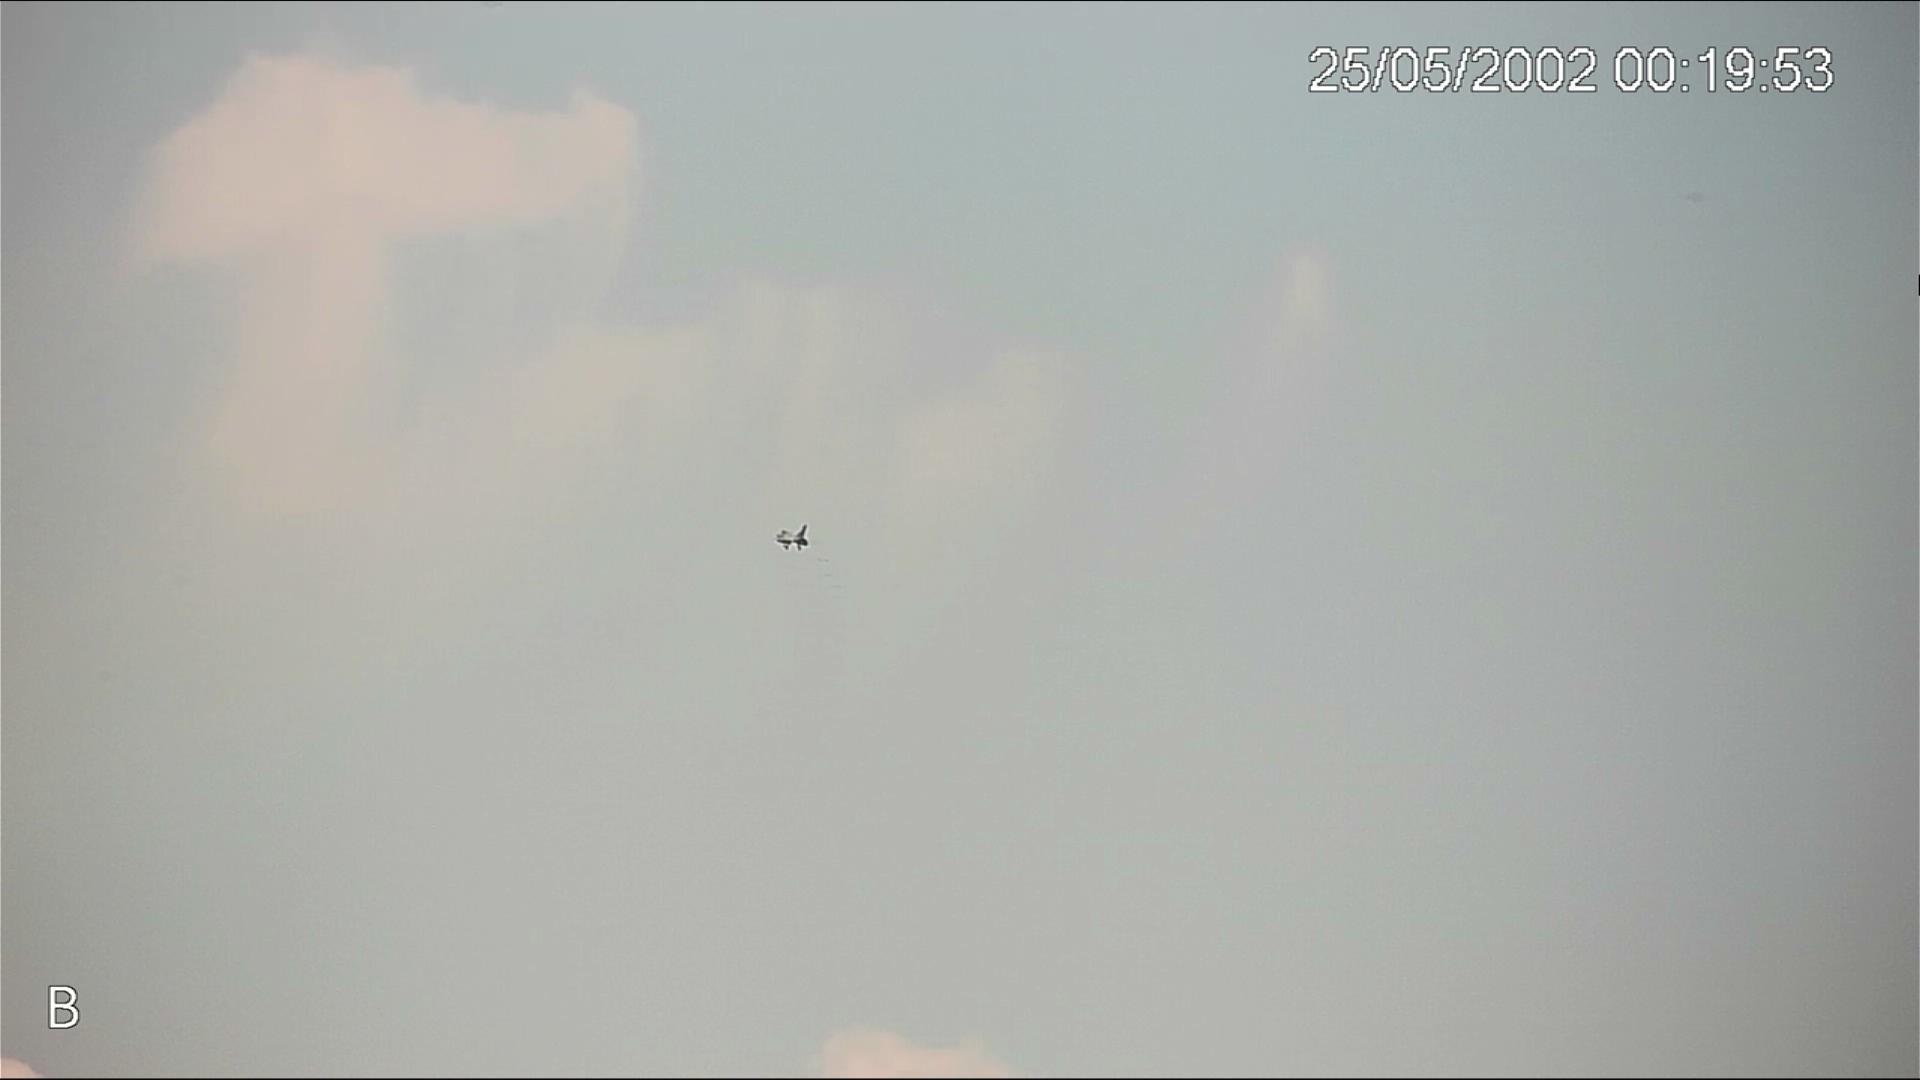SU_30: (774, 525, 823, 553)
